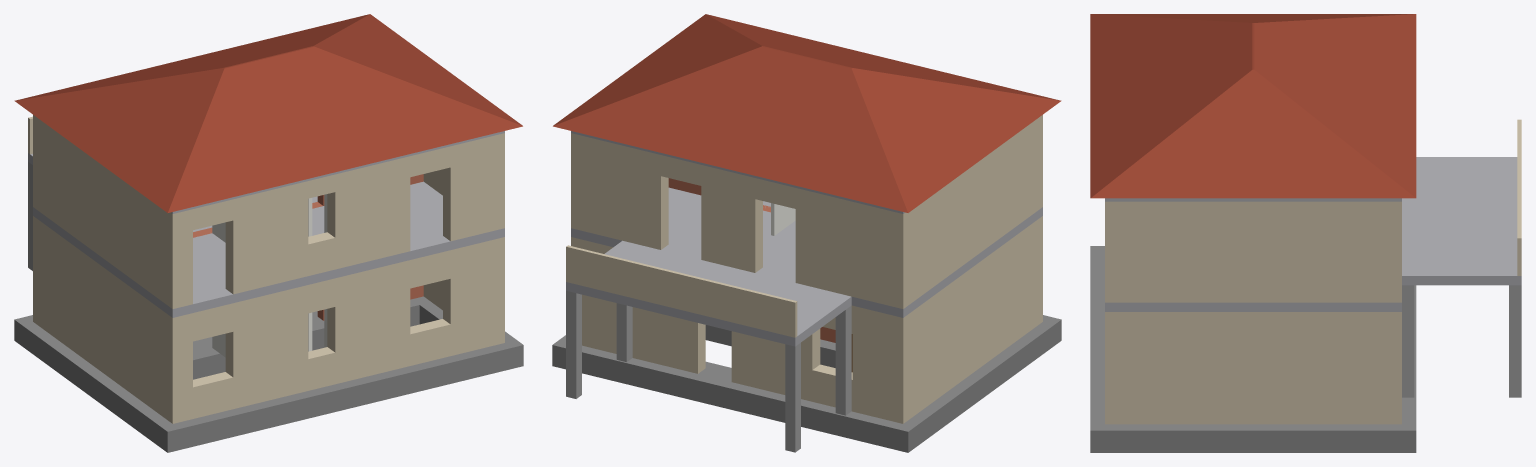
File: casa.glb
3 renders of one model, left to right at view 1: azimuth 30°, elevation 25°; view 2: azimuth 150°, elevation 25°; view 3: azimuth 270°, elevation 25°, orthographic. The views are drawn at different scales.
Parts seen in each view (by area): view 1: cubierta, muros_PB, muros_PA, cimentacion, forjado_PB_PA, tabiques, forjado_cubierta, MURO_CENTRAL, pilares; view 2: cubierta, muros_PA, muros_PB, cimentacion, antepecho, losa_terraza, forjado_PB_PA, pilares, forjado_cubierta, MURO_CENTRAL, tabiques; view 3: cubierta, muros_PB, muros_PA, losa_terraza, cimentacion, forjado_PB_PA, pilares, forjado_cubierta, antepecho.
Boxes of the visible parts, bbox=[...] form: cubierta: bbox=[14, 14, 522, 212]; muros_PB: bbox=[33, 216, 504, 423]; muros_PA: bbox=[33, 115, 504, 308]; cimentacion: bbox=[14, 296, 523, 452]; forjado_PB_PA: bbox=[33, 181, 504, 317]; tabiques: bbox=[212, 194, 327, 357]; forjado_cubierta: bbox=[171, 131, 504, 213]; MURO_CENTRAL: bbox=[193, 174, 423, 320]; pilares: bbox=[28, 162, 32, 270]; cubierta: bbox=[553, 14, 1061, 212]; muros_PA: bbox=[571, 115, 1042, 308]; muros_PB: bbox=[571, 216, 1042, 423]; cimentacion: bbox=[552, 315, 1061, 452]; antepecho: bbox=[566, 245, 797, 337]; losa_terraza: bbox=[566, 240, 851, 346]; forjado_PB_PA: bbox=[571, 187, 1042, 317]; pilares: bbox=[566, 291, 851, 452]; forjado_cubierta: bbox=[571, 131, 904, 213]; MURO_CENTRAL: bbox=[668, 178, 835, 342]; tabiques: bbox=[771, 203, 795, 235]; cubierta: bbox=[1090, 14, 1416, 198]; muros_PB: bbox=[1105, 312, 1401, 424]; muros_PA: bbox=[1105, 201, 1401, 302]; losa_terraza: bbox=[1402, 157, 1521, 285]; cimentacion: bbox=[1090, 246, 1416, 452]; forjado_PB_PA: bbox=[1105, 302, 1401, 311]; pilares: bbox=[1402, 285, 1521, 397]; forjado_cubierta: bbox=[1105, 198, 1401, 201]; antepecho: bbox=[1517, 119, 1521, 275].
Size of the model in its own units: 10.58 by 8.41 by 10.45.
